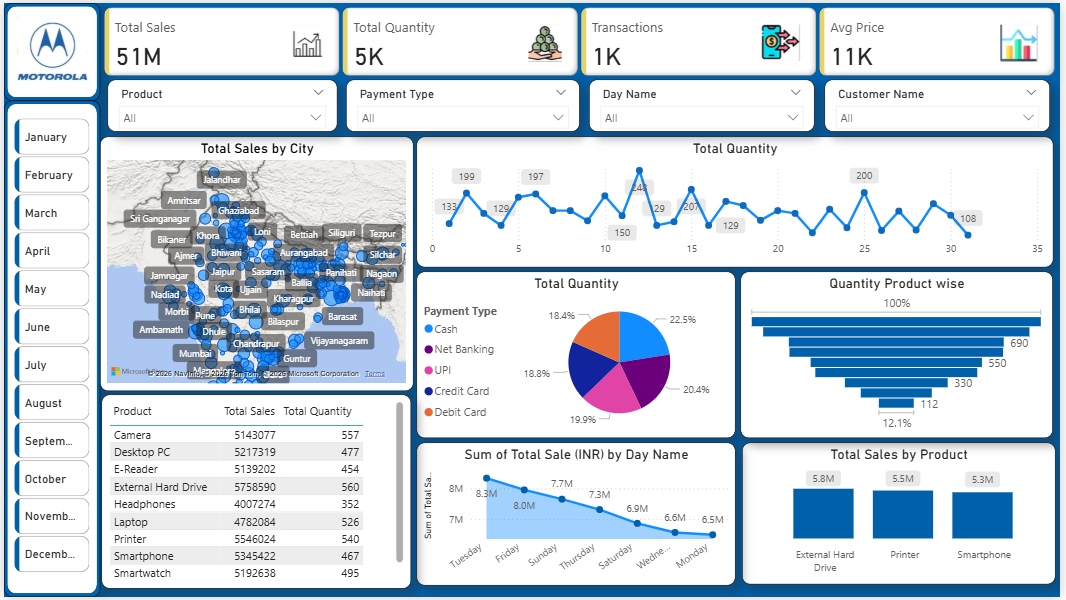

Layout of this report page (visuals, bound fields, positions):
{"tool":"powerbi","page":{"name":"Page 1","canvas":[1280,720],"ordinal":0},"visuals":[{"type":"shape","box":[0,0,116.7,118.3],"z":0},{"type":"image","box":[10,11.7,95,95],"z":1000},{"type":"shape","box":[0,118.3,116.7,601.7],"z":1001},{"type":"advancedSlicerVisual","fields":{"Values":["Sales_Data.Sales Date.Variation.Date Hierarchy.Month"]},"box":[6.7,135,101.7,570],"z":1002},{"type":"cardVisual","fields":{"Data":["Sales_Data.Total Sales","Sales_Data.Total Quantity","Sales_Data.Transactions","Sales_Data.Avg Price"]},"box":[116.7,0,1163.3,93.3],"z":1003},{"type":"map","fields":{"Category":["Sales_Data.City"],"Size":["Sales_Data.Total Sales"]},"box":[116.7,161.7,380,308.3],"z":1004},{"type":"lineChart","title":"Total Quantity","fields":{"Category":["Sales_Data.Sales Date.Variation.Date Hierarchy.Month","Sales_Data.Sales Date.Variation.Date Hierarchy.Day"],"Y":["Sales_Data.Total Quantity"]},"box":[500,161.7,771.7,158.3],"z":1005},{"type":"clusteredColumnChart","title":"Total Sales by Product","fields":{"Y":["Sum(Sales_Data.Total Sale (INR))"],"Category":["Sales_Data.Product"]},"box":[895,533.3,380,171.7],"z":1006},{"type":"pieChart","title":"Total Quantity","fields":{"Category":["Sales_Data.Payment Type"],"Y":["Sales_Data.Transactions"]},"box":[500,325,386.7,201.7],"z":1007},{"type":"funnel","title":"Quantity Product wise","fields":{"Category":["Sales_Data.Quantity"],"Y":["Sum(Sales_Data.Quantity)"]},"box":[893.3,325,378.3,201.7],"z":1008},{"type":"areaChart","fields":{"Category":["Sales_Data.Day Name"],"Y":["Sum(Sales_Data.Total Sale (INR))"]},"box":[500,533.3,386.7,173.3],"z":1009},{"type":"tableEx","title":"Total Quantity","fields":{"Values":["Sales_Data.Product","Sales_Data.Total Sales","Sales_Data.Total Quantity"]},"box":[118.3,475,375,235],"z":1010},{"type":"slicer","fields":{"Values":["Sales_Data.Product"]},"box":[125,93.3,278.3,63.3],"z":1011},{"type":"slicer","fields":{"Values":["Sales_Data.Payment Type"]},"box":[415,93.3,283.3,63.3],"z":1012},{"type":"slicer","fields":{"Values":["Sales_Data.Day Name"]},"box":[708.3,93.3,273.3,63.3],"z":1013},{"type":"slicer","fields":{"Values":["Sales_Data.Customer Name"]},"box":[995,93.3,273.3,63.3],"z":1014}]}

Visuals, with their boxes in screenshot pixels (x1, y1, x2, y2), scaled from the page's 1280x720 canvas onto the 1066x600 screenshot:
shape: BBox(0, 0, 97, 99)
image: BBox(8, 10, 87, 89)
shape: BBox(0, 99, 97, 599)
advancedSlicerVisual - Sales_Data.Sales Date.Variation.Date Hierarchy.Month: BBox(6, 112, 90, 588)
cardVisual - Sales_Data.Total Sales x Sales_Data.Total Quantity: BBox(97, 0, 1065, 78)
map - Sales_Data.City x Sales_Data.Total Sales: BBox(97, 135, 414, 392)
"Total Quantity" lineChart: BBox(416, 135, 1059, 267)
"Total Sales by Product" clusteredColumnChart: BBox(745, 444, 1062, 588)
"Total Quantity" pieChart: BBox(416, 271, 738, 439)
"Quantity Product wise" funnel: BBox(744, 271, 1059, 439)
areaChart - Sales_Data.Day Name x Sum(Sales_Data.Total Sale (INR)): BBox(416, 444, 738, 589)
"Total Quantity" tableEx: BBox(99, 396, 411, 592)
slicer - Sales_Data.Product: BBox(104, 78, 336, 130)
slicer - Sales_Data.Payment Type: BBox(346, 78, 582, 130)
slicer - Sales_Data.Day Name: BBox(590, 78, 817, 130)
slicer - Sales_Data.Customer Name: BBox(829, 78, 1056, 130)
